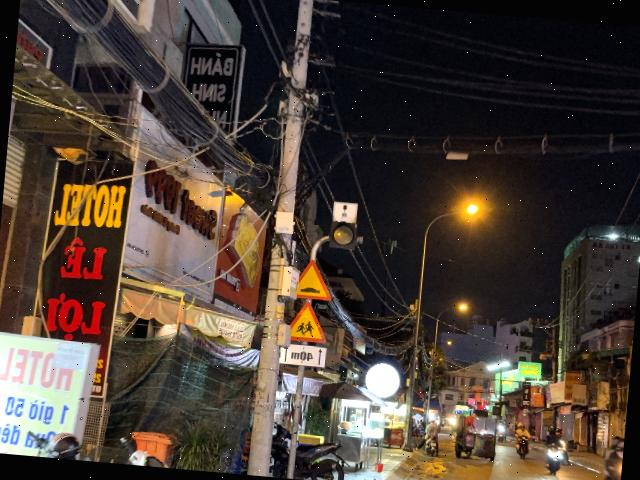duong-co-go-giam-toc: (296, 258, 336, 300)
tre-em-qua-duong: (288, 300, 328, 342)
